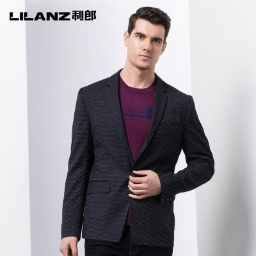face: (123, 6, 171, 72)
